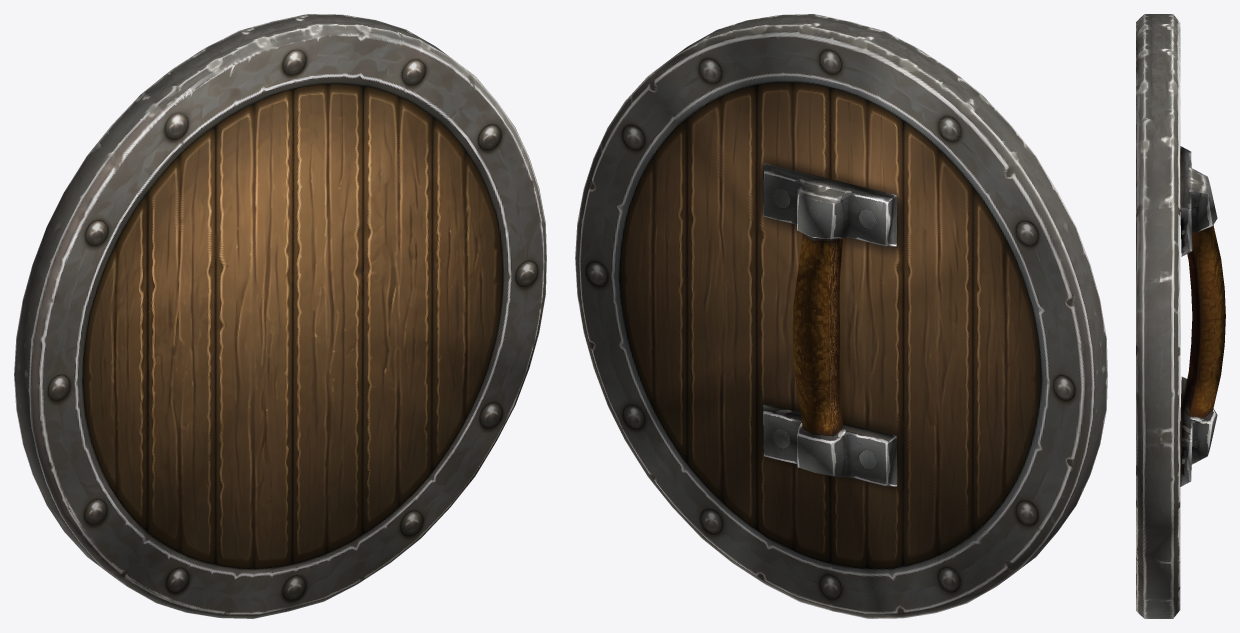
File: Shield.fbx
The picture shows the model from 3 angles, left to right: view 1: azimuth 30°, elevation 25°; view 2: azimuth 150°, elevation 25°; view 3: azimuth 270°, elevation 25°; orthographic projection. The views are drawn at different scales.
Visible parts, largest first — view 1: Mesh_0; view 2: Mesh_0; view 3: Mesh_0.
Boxes of the visible parts, x1=… form: Mesh_0: x1=14, y1=14, x2=546, y2=618; Mesh_0: x1=575, y1=14, x2=1107, y2=618; Mesh_0: x1=1136, y1=14, x2=1225, y2=618.
Bounding box in the file's own units: 30.84 × 32.9 × 4.83.
1 material, 1 textured.
